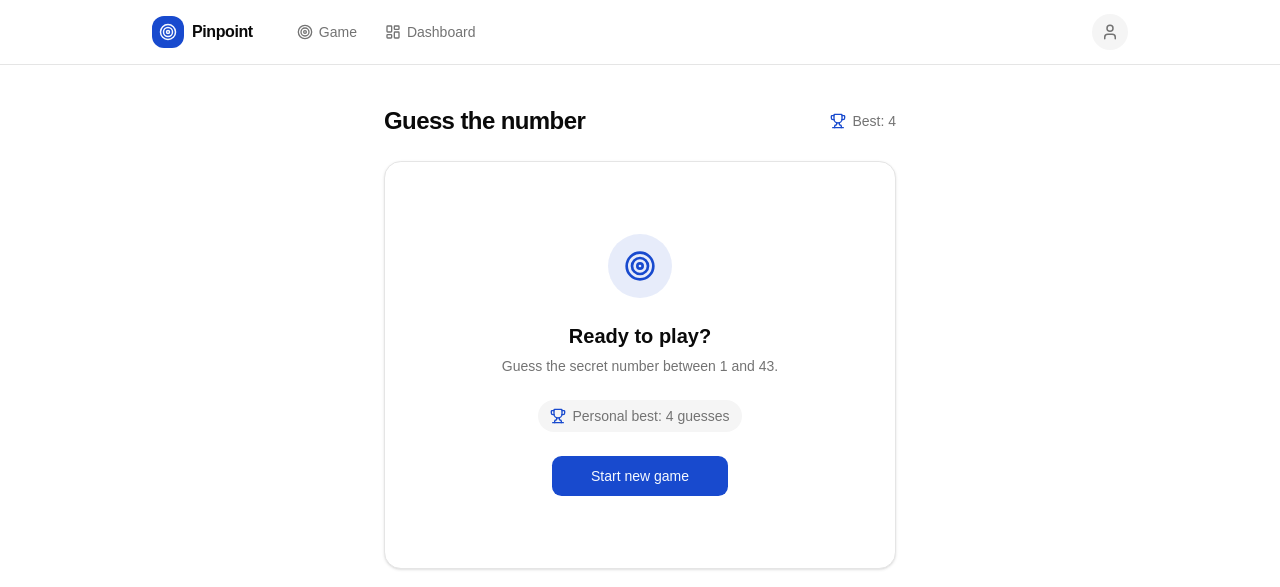
Test case: GamePage › starts a new game and shows the in-progress board
Click the button "Start new game".
click(640, 476)  # box [552, 456, 728, 496]
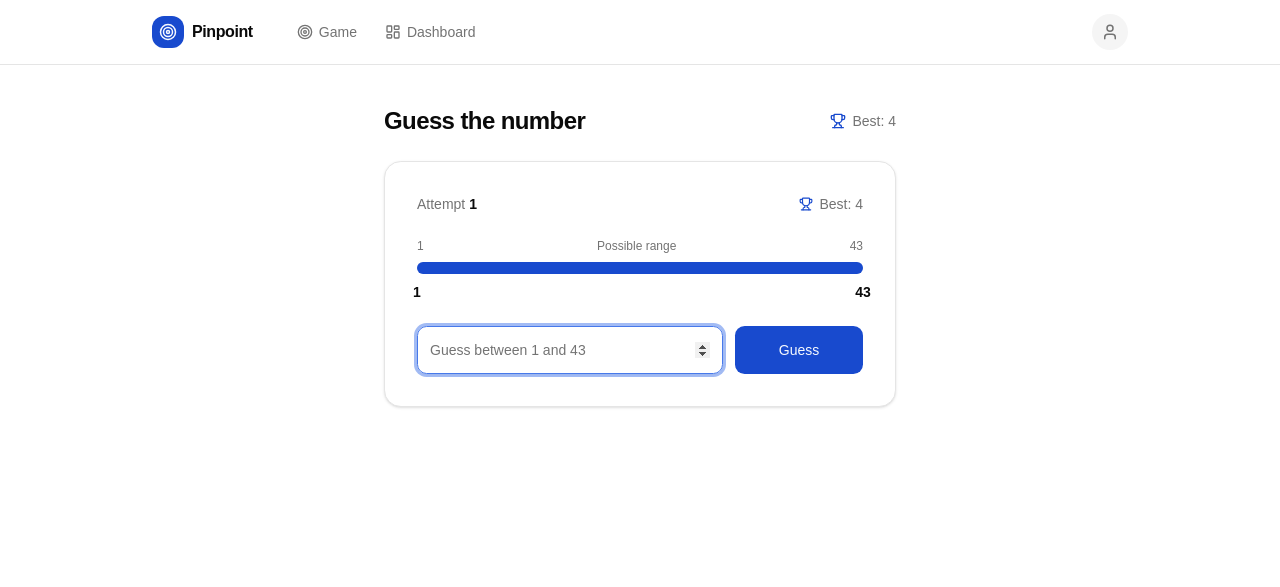
Expected: the number field with placeholder "Guess between 1 and 43" is shown, [417, 326, 723, 374]
Expected: the text "Attempt 1" is shown, [417, 194, 477, 214]
